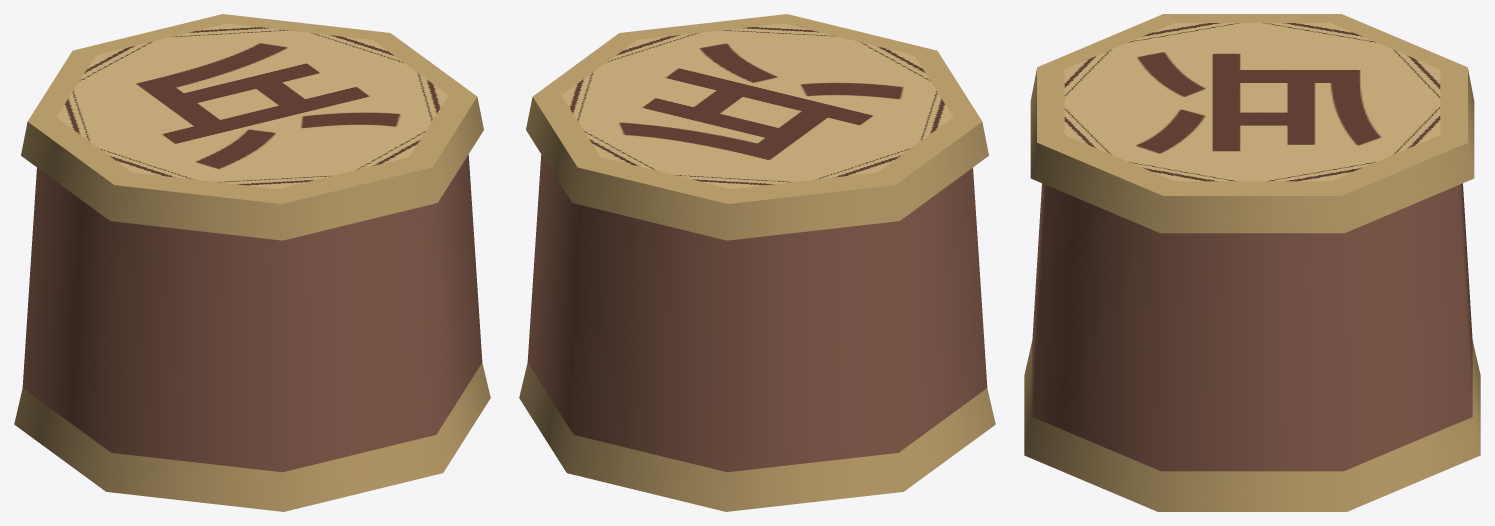
The model's file is Red7.glb.
3 renders of one model, left to right at view 1: azimuth 30°, elevation 25°; view 2: azimuth 150°, elevation 25°; view 3: azimuth 270°, elevation 25°, orthographic. The views are drawn at different scales.
Parts seen in each view (by area): view 1: Red7; view 2: Red7; view 3: Red7.
Part boxes in pixels (x1,y1,x2,y2): Red7: [14, 14, 490, 511]; Red7: [519, 14, 995, 511]; Red7: [1024, 14, 1480, 511].
Size of the model in its own units: 0.656 by 0.497 by 0.656.
3 materials, 1 textured.
